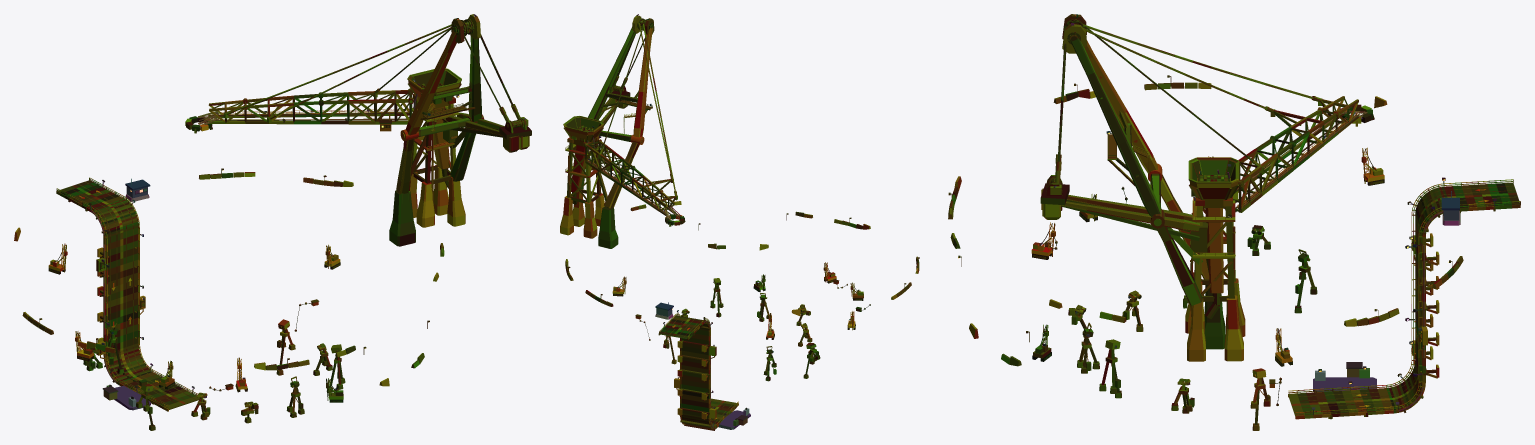
The model's file is pit.glb.
3 views of the same model, side by side, from view 1: azimuth 30°, elevation 25°; view 2: azimuth 150°, elevation 25°; view 3: azimuth 270°, elevation 25° (orthographic). The views are drawn at different scales.
Visible parts, largest first — view 1: pit_geo; view 2: pit_geo; view 3: pit_geo.
Part boxes in pixels (left/top/right/bottom): pit_geo: left=14, top=14, right=531, bottom=430; pit_geo: left=560, top=14, right=919, bottom=430; pit_geo: left=948, top=14, right=1520, bottom=430.
Bounding box in the file's own units: 221 × 194 × 197.
